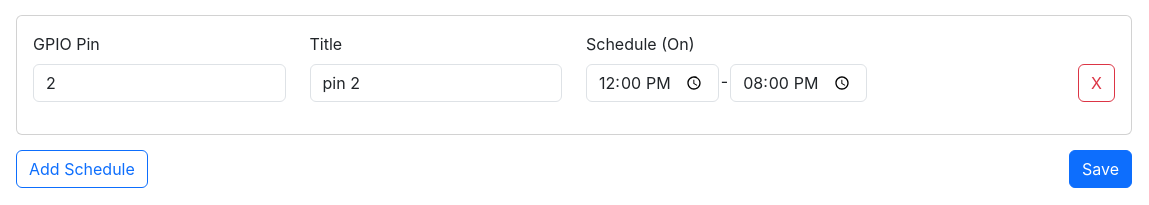
when removing a config › remove button clicked
Click the button with test id "remove-button" at (1097, 83), box [1078,64,1115,102]
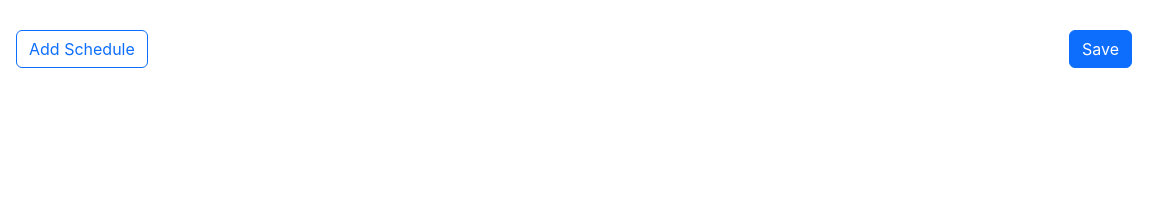
Now no elements with test id "pin-config-container" are shown
